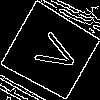V: (25, 25, 81, 78)
